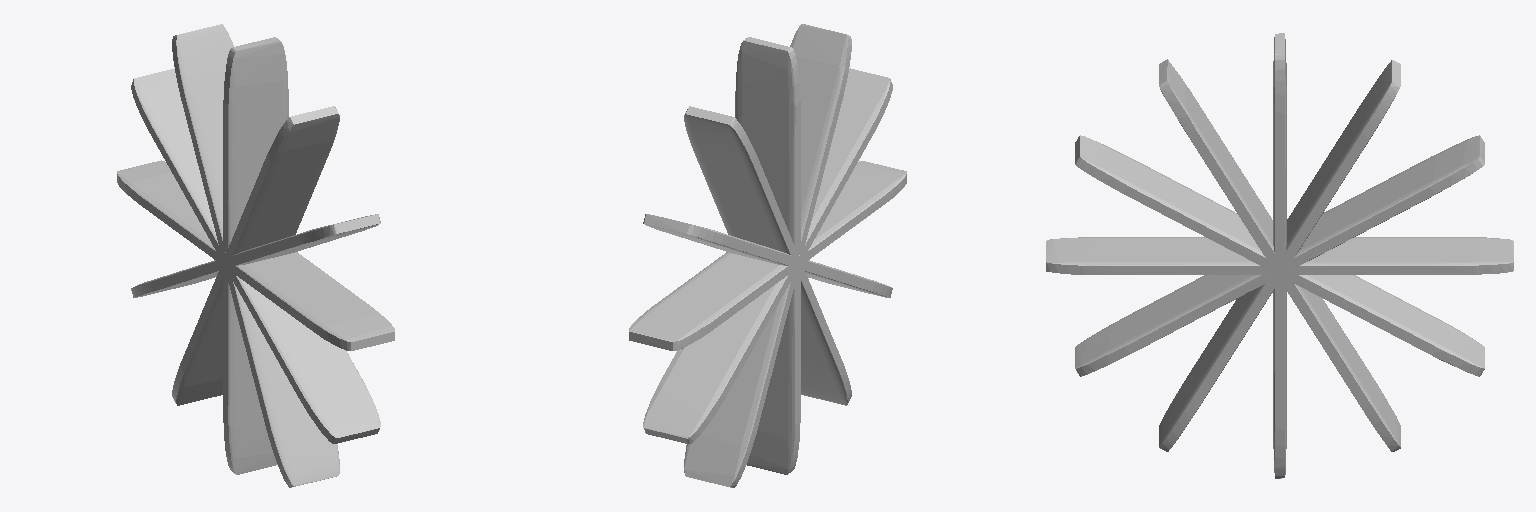
File: slider_gear_roopback.obj
The picture shows the model from 3 angles: view 1: azimuth 30°, elevation 25°; view 2: azimuth 150°, elevation 25°; view 3: azimuth 270°, elevation 25°; orthographic projection.
Parts seen in each view (by area): view 1: Gear_roopback_Gear_roopback.002; view 2: Gear_roopback_Gear_roopback.002; view 3: Gear_roopback_Gear_roopback.002.
Boxes of the visible parts, x1=… form: Gear_roopback_Gear_roopback.002: x1=117, y1=24, x2=394, y2=487; Gear_roopback_Gear_roopback.002: x1=629, y1=24, x2=906, y2=487; Gear_roopback_Gear_roopback.002: x1=1046, y1=33, x2=1513, y2=478.
Size of the model in its own units: 1.25 by 8.4 by 8.39.